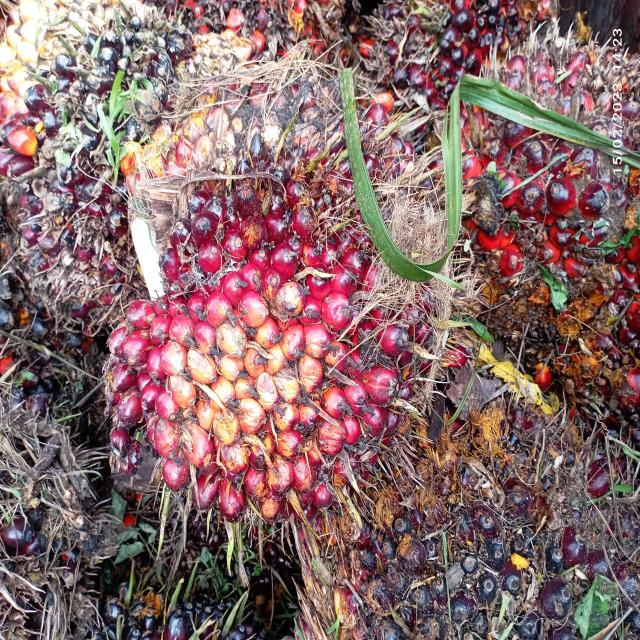fraksi 00: (0, 0, 201, 329)
fraksi 1: (70, 70, 423, 555)
fraksi 4: (414, 2, 640, 416)
